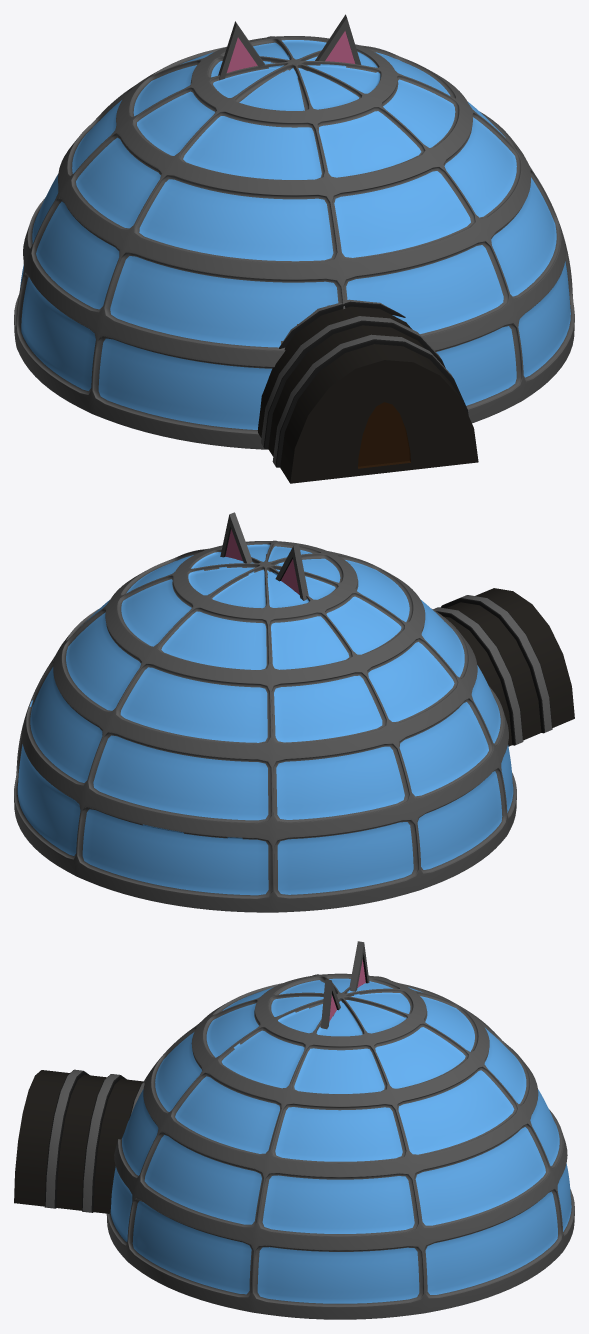
The model's file is spacebuilding4.obj.
3 views of the same model, one above another, from view 1: azimuth 30°, elevation 25°; view 2: azimuth 150°, elevation 25°; view 3: azimuth 270°, elevation 25° (orthographic). The views are drawn at different scales.
Parts seen in each view (by area): view 1: pSphere4; view 2: pSphere4; view 3: pSphere4.
Part boxes in pixels (x1,y1,x2,y2): pSphere4: (14, 14, 574, 483); pSphere4: (14, 512, 574, 912); pSphere4: (14, 941, 574, 1319).
Size of the model in its own units: 74.3 by 45.59 by 88.99.
